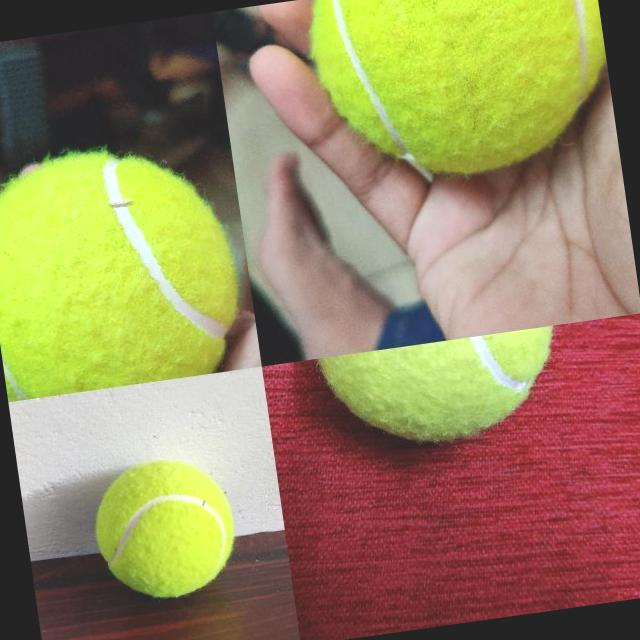Tennis Ball: (0, 135, 251, 401), (306, 0, 619, 190), (316, 325, 570, 459), (86, 451, 244, 606)
